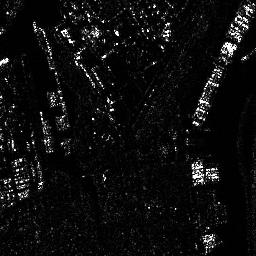ship: (205, 165, 219, 183)
